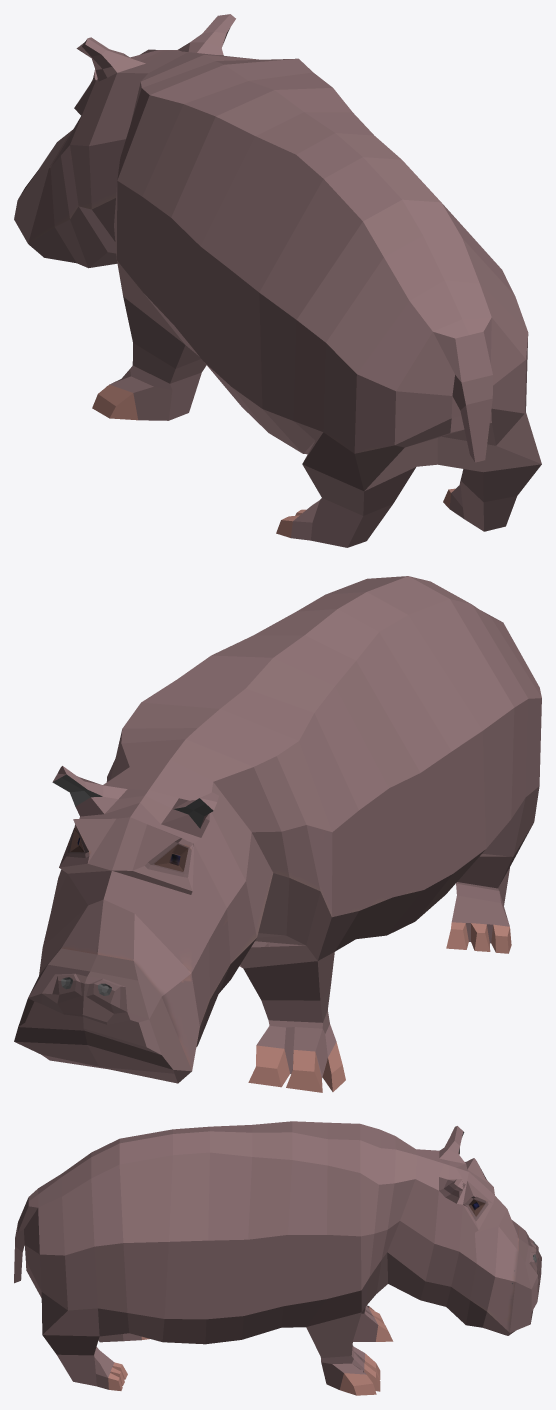
Rendered from hippo.glb.
The picture shows the model from 3 angles, top to bottom: view 1: azimuth 30°, elevation 25°; view 2: azimuth 150°, elevation 25°; view 3: azimuth 270°, elevation 25°; orthographic projection. The views are drawn at different scales.
Parts seen in each view (by area): view 1: hippo_2; view 2: hippo_2; view 3: hippo_2.
Part boxes in pixels (x1,y1,x2,y2): hippo_2: (14,14,541,547); hippo_2: (14,576,541,1092); hippo_2: (14,1121,541,1395).
Size of the model in its own units: 0.9391 by 1.31 by 2.76.
1 material, 1 textured.
